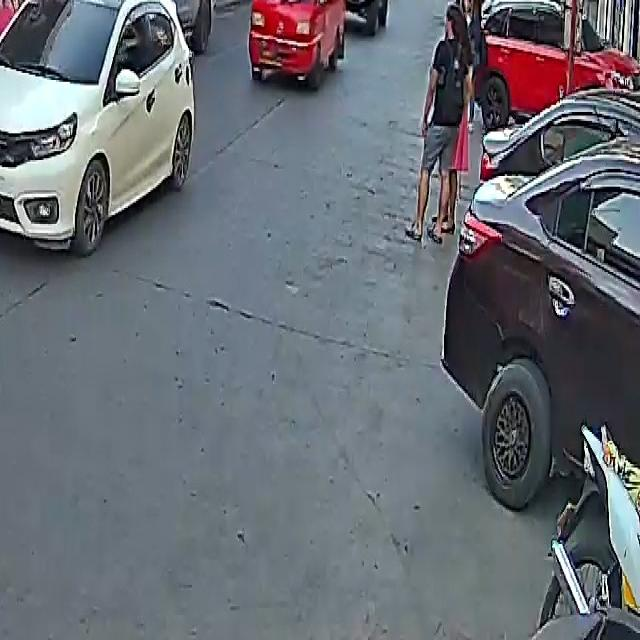car: (440, 84, 640, 522), (0, 0, 200, 254), (464, 0, 638, 135), (76, 0, 218, 53), (320, 0, 390, 28)
